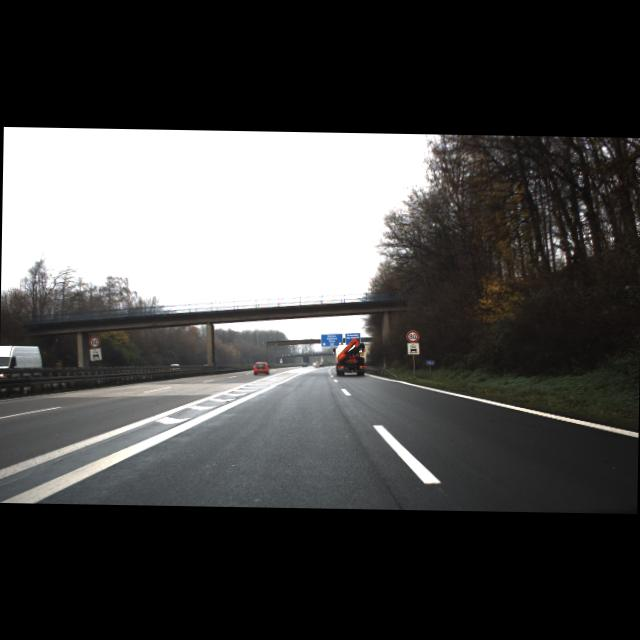prohibitory: (405, 329, 418, 342), (88, 336, 100, 348)
